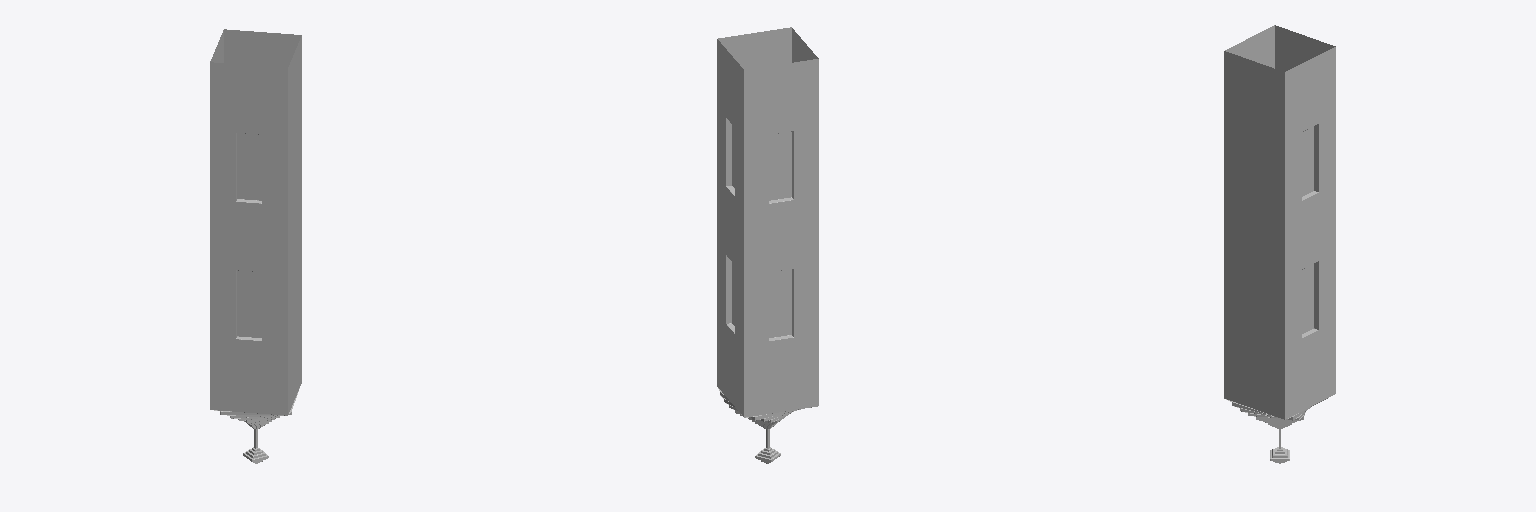
Rendered from Support_Relica.obj.
3 views of the same model, side by side, from view 1: azimuth 30°, elevation 25°; view 2: azimuth 150°, elevation 25°; view 3: azimuth 270°, elevation 25° (orthographic).
Visible parts, largest first — view 1: SupportRelica_Cube.020; view 2: SupportRelica_Cube.020; view 3: SupportRelica_Cube.020.
Boxes of the visible parts, box(x1,y1,x2,y2) form: SupportRelica_Cube.020: box(210, 29, 301, 463); SupportRelica_Cube.020: box(717, 27, 818, 463); SupportRelica_Cube.020: box(1224, 25, 1335, 463).
Size of the model in its own units: 5.69 by 23.37 by 5.69.